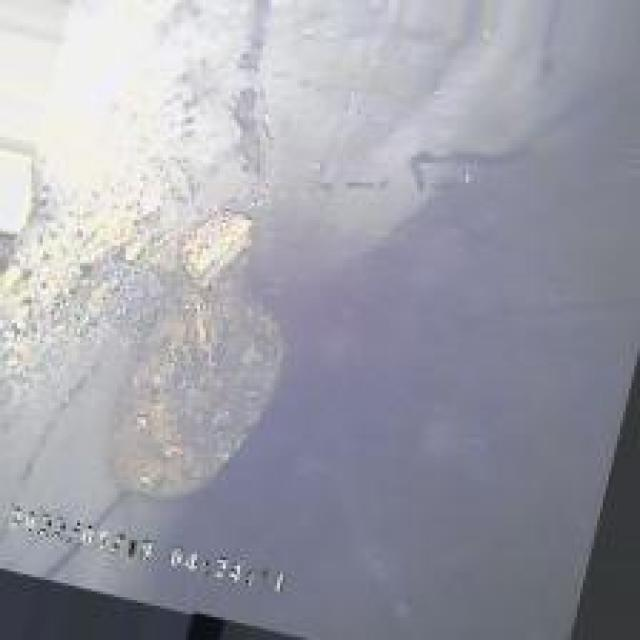stone: (92, 268, 297, 506)
